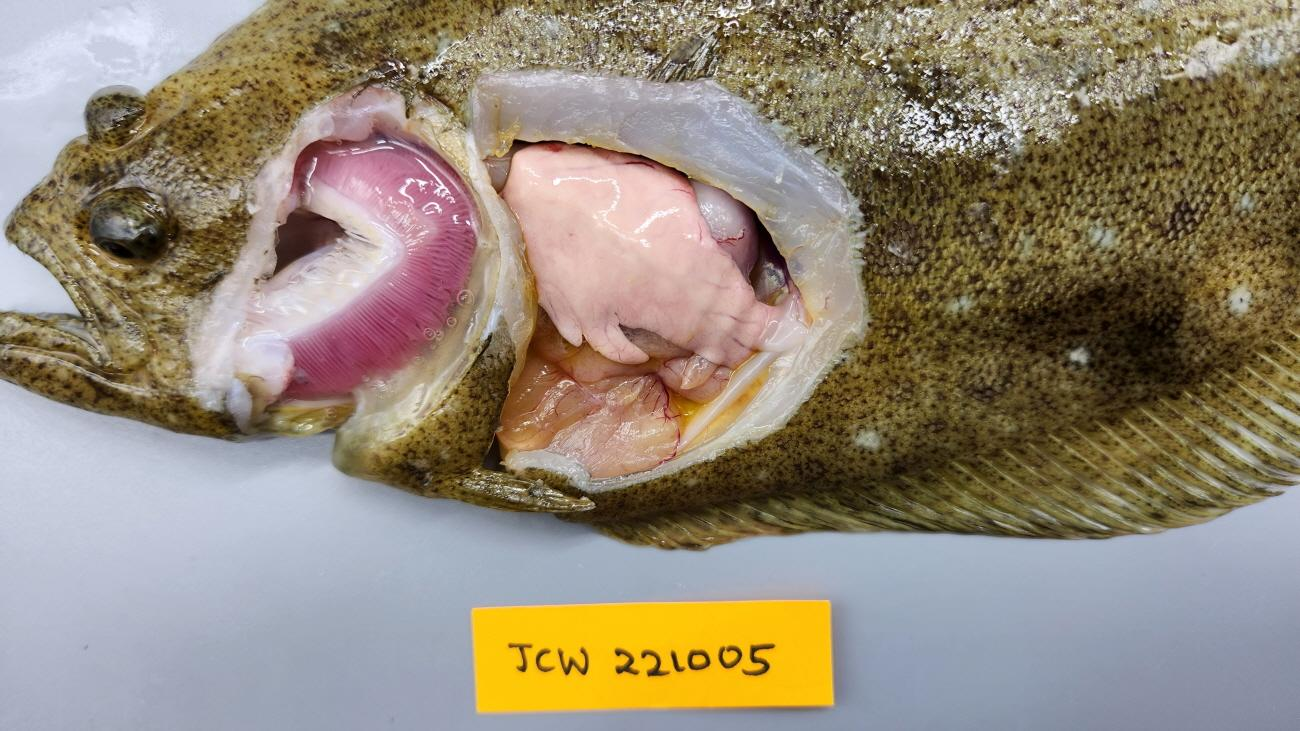POGIN: (282, 138, 474, 396)
POLIN: (499, 143, 779, 368)
